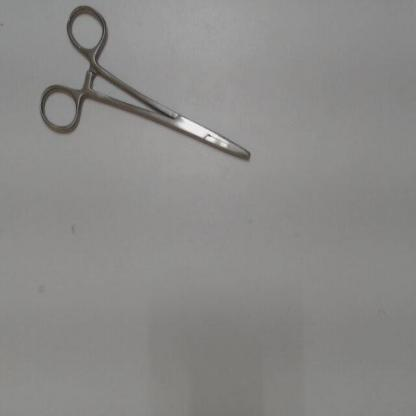Mayo Needle Holder: (34, 1, 260, 171)
